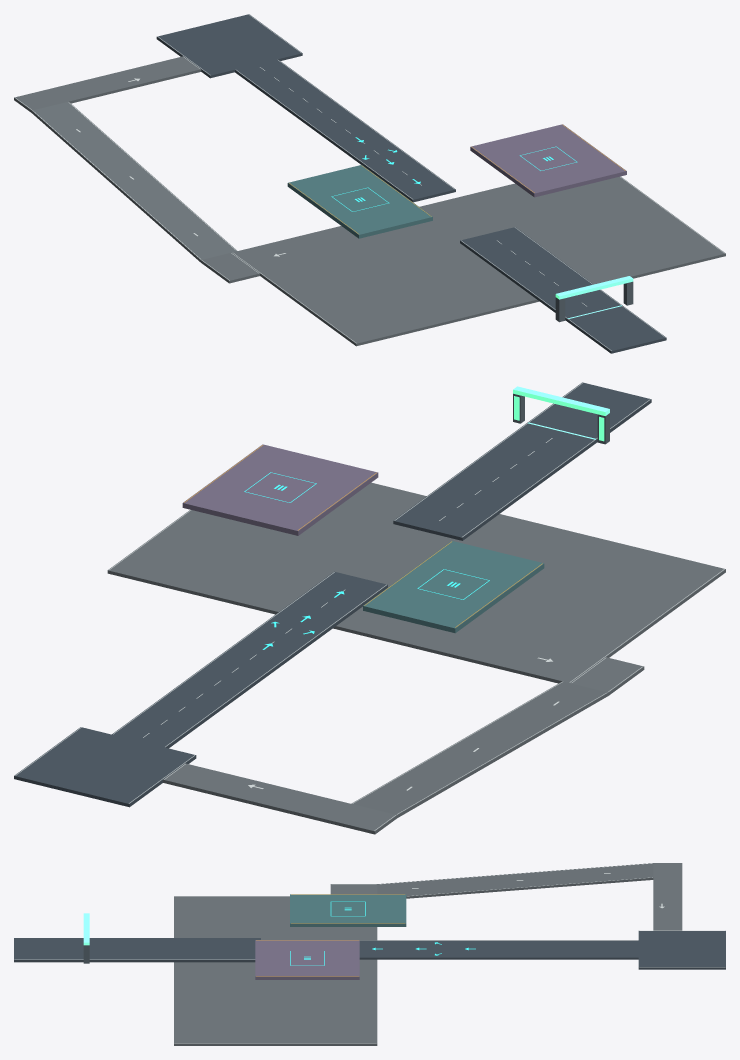
File: roadster-lab.glb
3 renders of one model, top to bottom at view 1: azimuth 30°, elevation 25°; view 2: azimuth 150°, elevation 25°; view 3: azimuth 270°, elevation 25°, orthographic. The views are drawn at different scales.
Visible parts, largest first — view 1: RL_recovery, RL_far, RL_runway, RL_return-ramp, RL_high, RL_low, RL_start, RL_return-top, RL_return-bottom, RL_exit-header; view 2: RL_recovery, RL_far, RL_runway, RL_high, RL_low, RL_return-ramp, RL_start, RL_return-top, RL_return-bottom, RL_exit-header; view 3: RL_recovery, RL_far, RL_runway, RL_return-ramp, RL_high, RL_low, RL_start, RL_return-top, RL_return-bottom.
Part boxes in pixels (x1,y1,x2,y2): RL_recovery: [232, 176, 725, 346]; RL_far: [460, 227, 666, 353]; RL_runway: [235, 59, 455, 202]; RL_return-ramp: [31, 101, 237, 261]; RL_high: [470, 124, 626, 197]; RL_low: [287, 165, 432, 238]; RL_start: [156, 14, 302, 78]; RL_return-top: [14, 56, 201, 112]; RL_return-bottom: [200, 252, 259, 283]; RL_exit-header: [555, 276, 633, 299]; RL_recovery: [107, 482, 725, 683]; RL_far: [393, 382, 651, 540]; RL_runway: [112, 571, 387, 748]; RL_high: [182, 444, 378, 535]; RL_low: [363, 541, 544, 633]; RL_return-ramp: [351, 681, 608, 817]; RL_start: [14, 727, 196, 807]; RL_return-top: [163, 763, 397, 834]; RL_return-bottom: [570, 657, 644, 695]; RL_exit-header: [513, 386, 609, 415]; RL_recovery: [174, 896, 377, 1045]; RL_far: [14, 938, 260, 962]; RL_runway: [359, 940, 638, 959]; RL_return-ramp: [377, 863, 653, 898]; RL_high: [255, 940, 359, 979]; RL_low: [290, 894, 406, 926]; RL_start: [638, 931, 725, 969]; RL_return-top: [653, 863, 682, 930]; RL_return-bottom: [330, 884, 377, 894].
Bounding box in the file's own units: 130 × 18.82 × 245.
